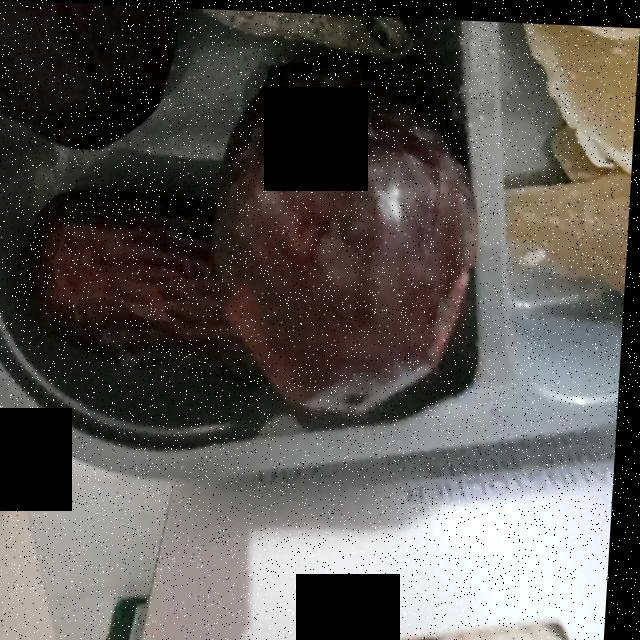dates: (21, 80, 469, 423)
